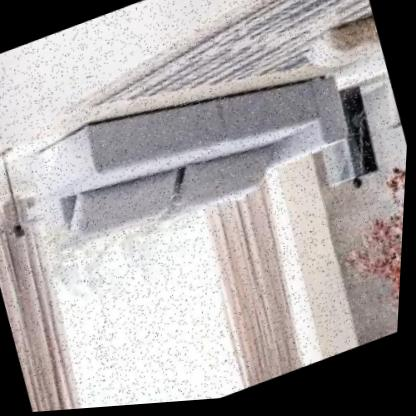Sofa: (4, 9, 381, 294)
